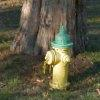Hydrant: (38, 25, 76, 92)
